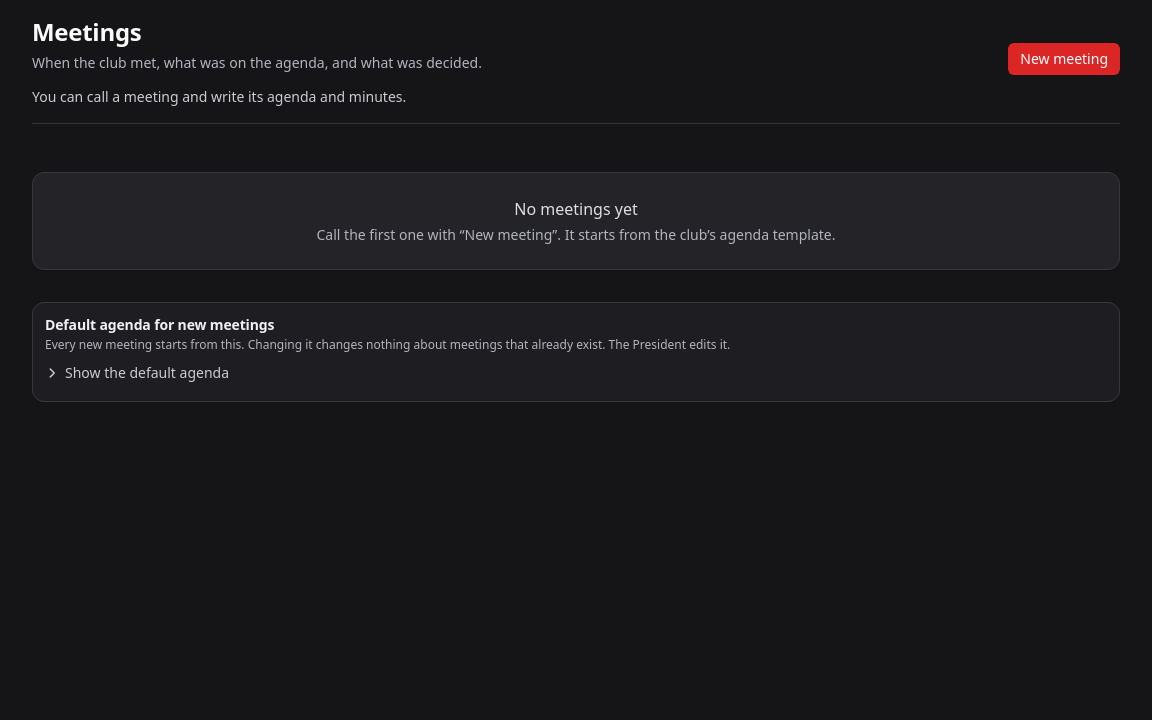
Test: calling and editing a meeting › needs a name and a date, and an end after the start, before anything is sent
Click the button "New meeting".
click(1064, 59)  # box [1008,43,1120,75]
(page scrolled)
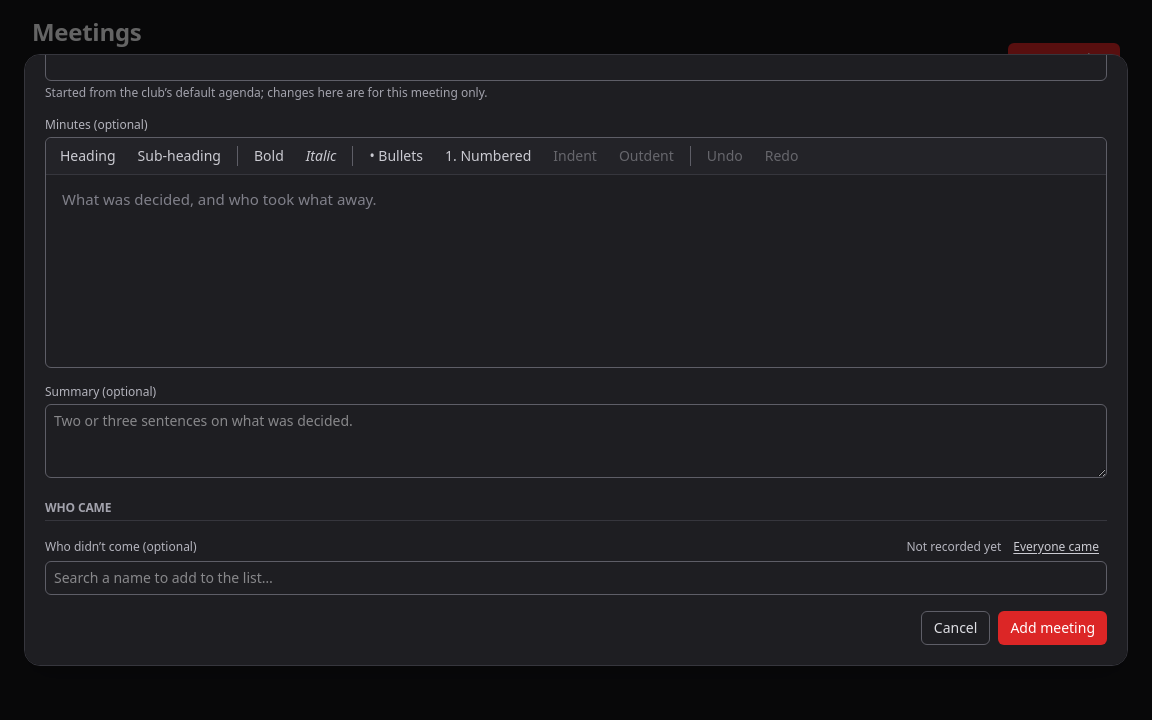
Click the button "Add meeting".
click(1053, 628)  # box [998,611,1107,645]
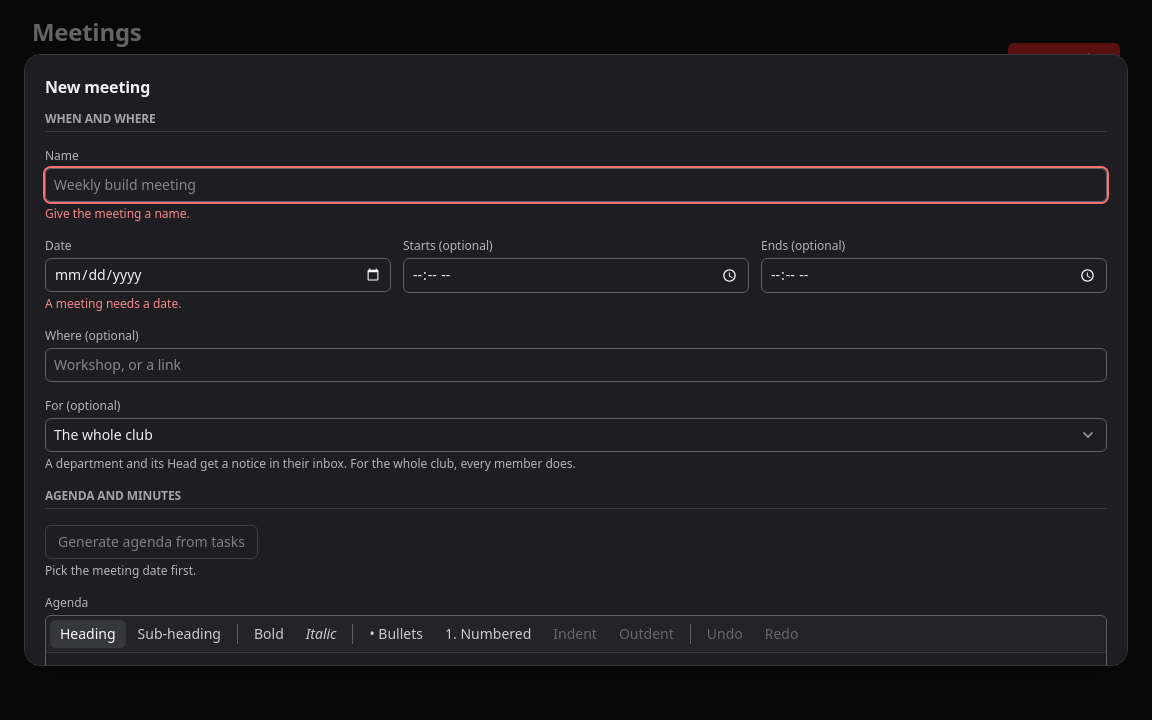
Result: the text "Give the meeting a name." is shown at [45,205,190,222]
Result: the text "A meeting needs a date." is shown at [45,295,181,312]
Type "Weekly build" into the field labelled "Name".
click(576, 185); type("Weekly build")  # box [45,168,1107,202]
Type "2026-10-01" into the date field labelled "Date".
click(218, 275); type("2026-10-01")  # box [45,258,391,292]
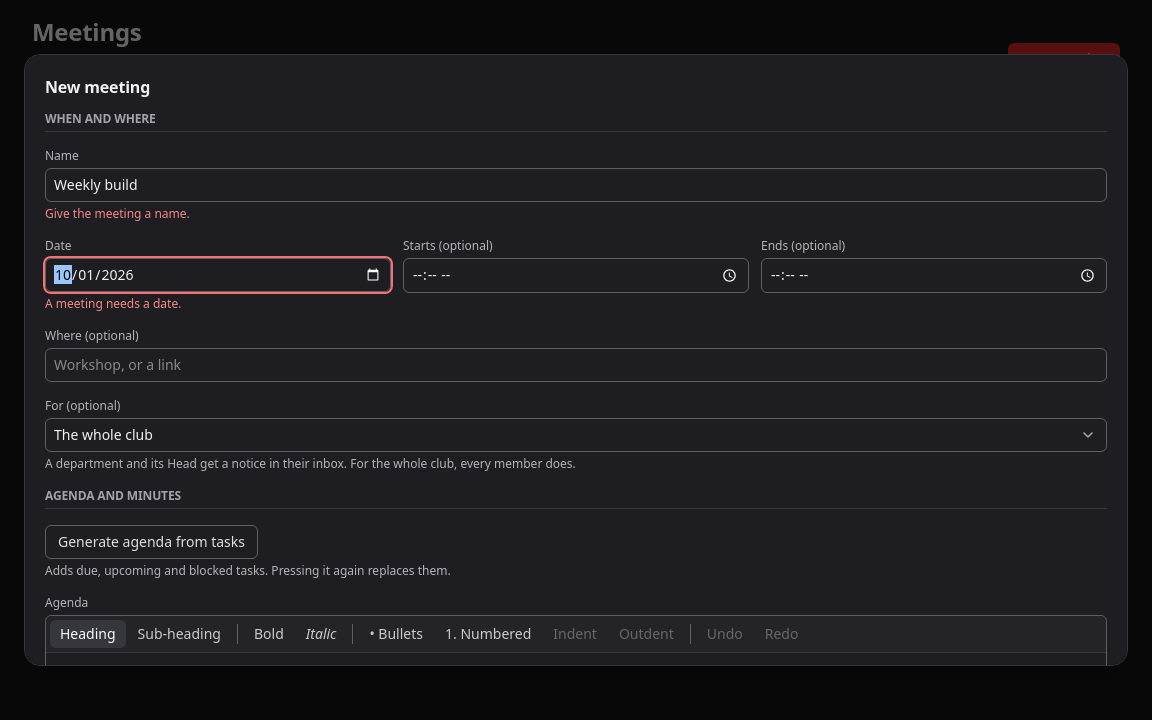
Type "18:00" into the time field labelled "Starts (optional)".
click(576, 275); type("18:00")  # box [403,258,749,293]
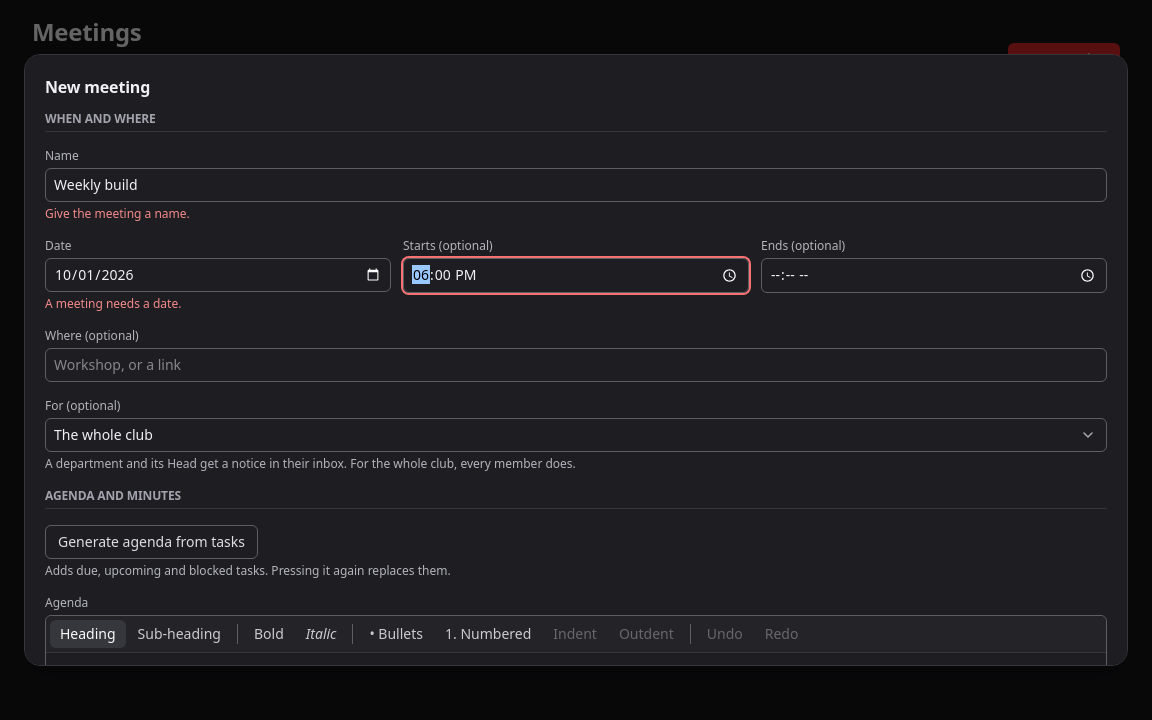
Type "17:00" into the time field labelled "Ends (optional)".
click(934, 275); type("17:00")  # box [761,258,1107,293]
(page scrolled)
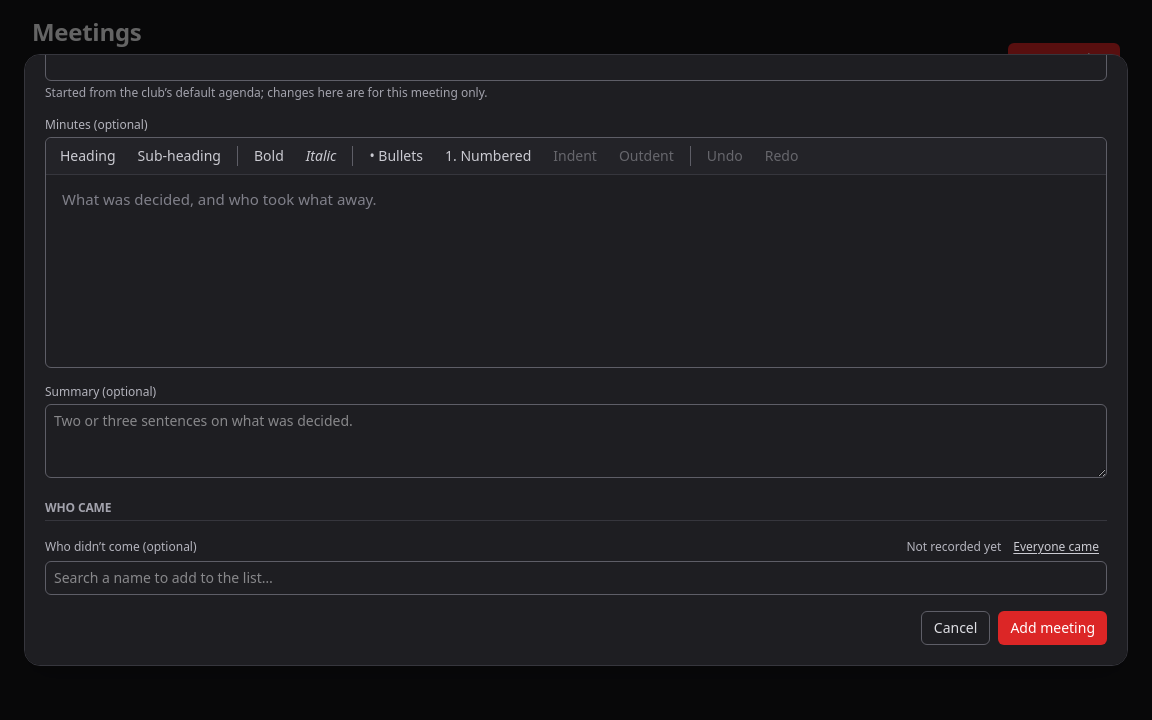
Click the button "Add meeting".
click(1053, 628)  # box [998,611,1107,645]
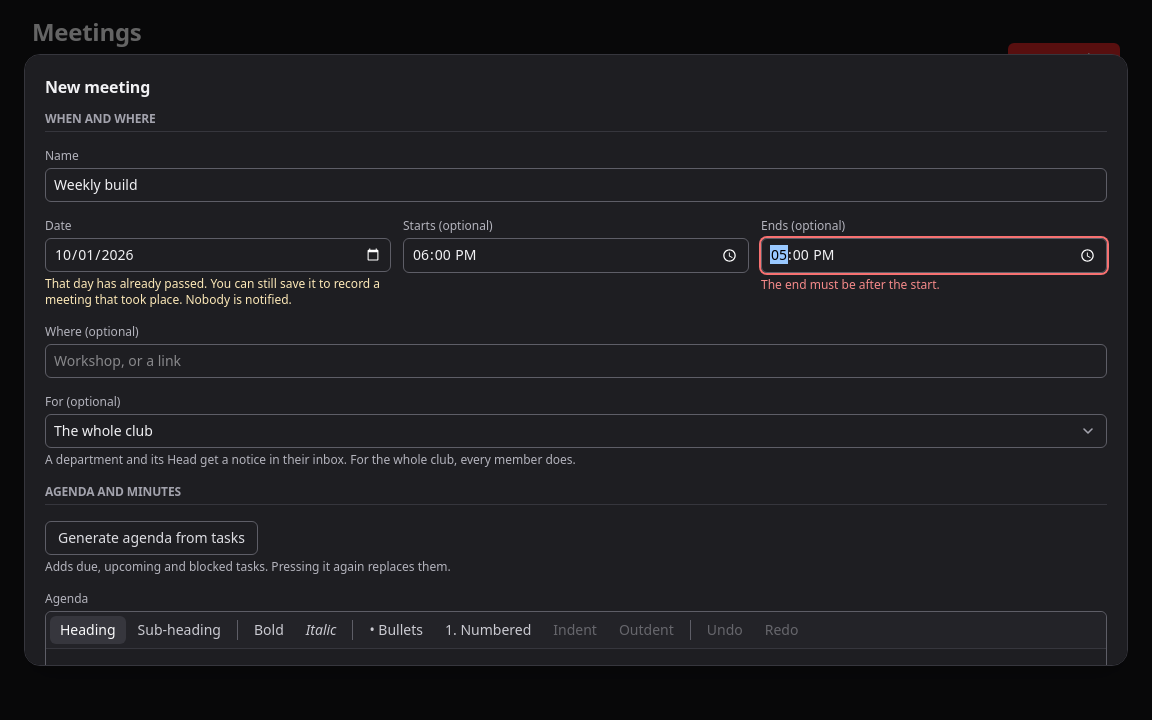
Result: the text "The end must be after the start." is shown at [761,276,940,293]
